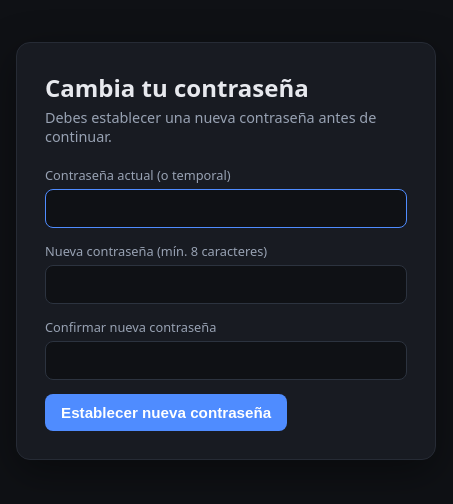
Scenario: auth pages follow the detected UI language › shows the translated mismatch error on the change-password page
Step 1. Type "temp-1234" into the password field labelled "Contraseña actual (o temporal)" → [226, 208], box 45,189 -> 407,228
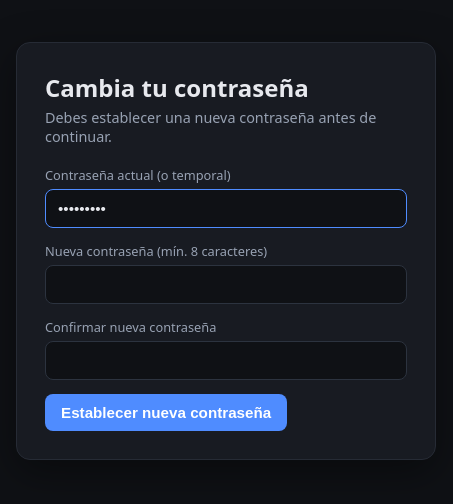
Step 2. Type "new-password-1" into the password field labelled "Nueva contraseña (mín. 8 caracteres)" → [226, 284], box 45,265 -> 407,304
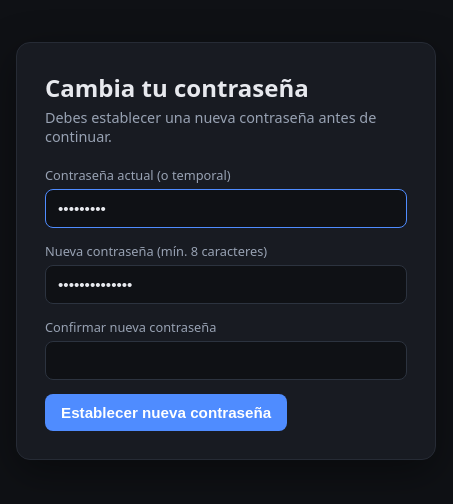
Step 3. Type "new-password-2" into the password field labelled "Confirmar nueva contraseña" → [226, 360], box 45,341 -> 407,380
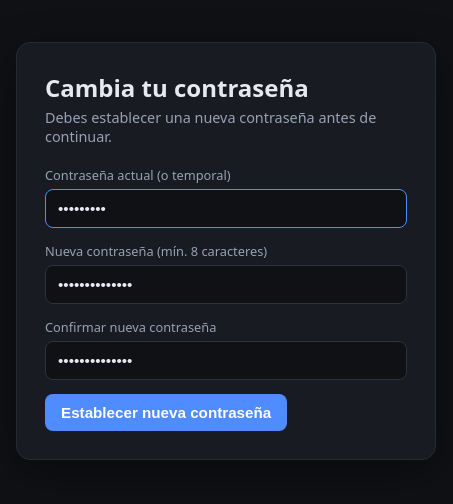
Step 4. Submit the form
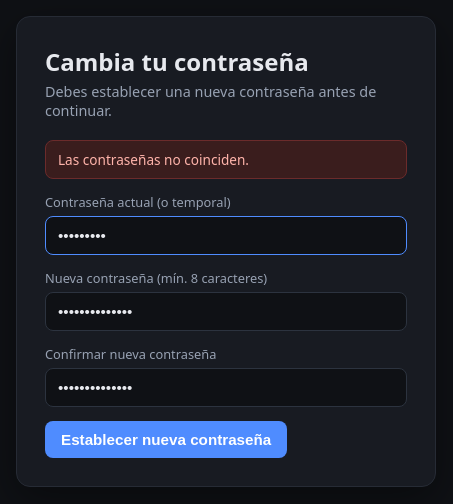
Now the text "Las contraseñas no coinciden." is shown, box 45,140 -> 407,178
